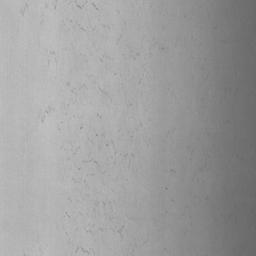Silk spot: (113, 225, 124, 238), (75, 246, 89, 255)
